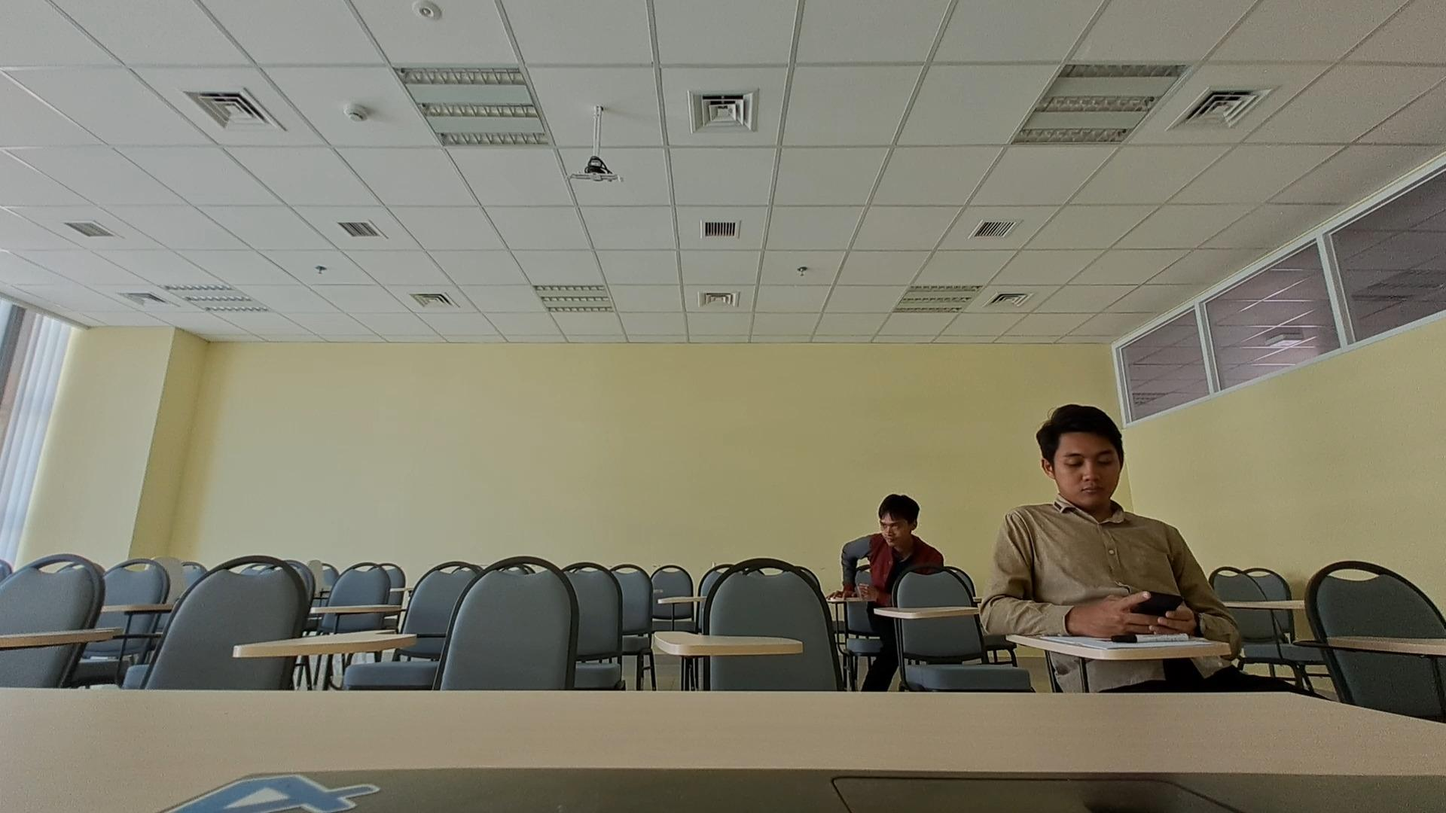phone: (986, 403, 1238, 643)
